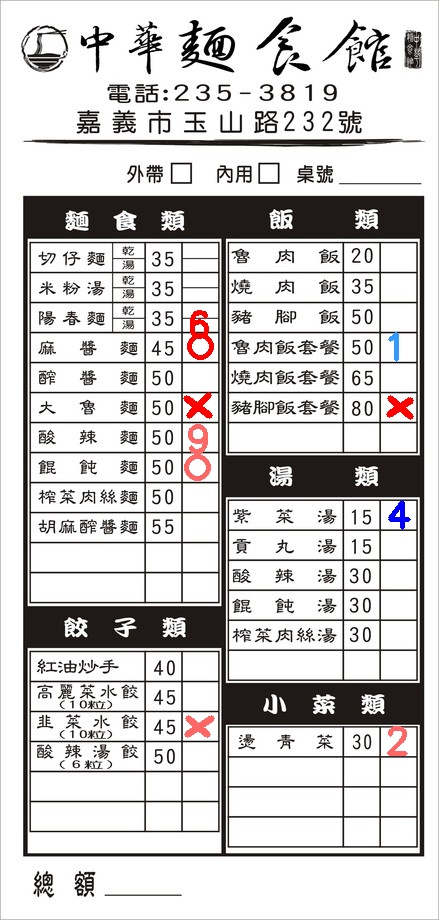marked_hollow: (179, 453, 215, 482), (182, 332, 218, 361)
marked_number_1: (378, 332, 414, 361)
marked_number_2: (380, 726, 416, 755)
marked_number_4: (381, 500, 417, 529)
marked_number_6: (183, 317, 217, 330)
marked_number_9: (181, 424, 217, 453)
marked_x: (181, 392, 217, 421), (181, 711, 217, 740), (381, 393, 417, 422)
